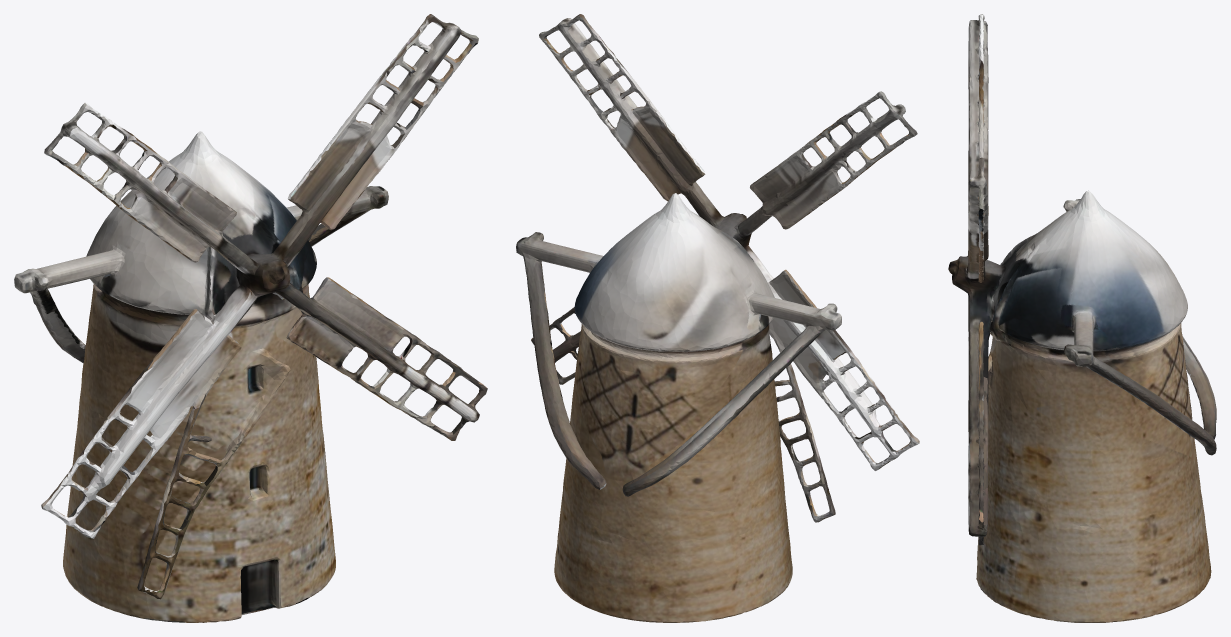
Rendered from mdl_windmill_001.glb.
The picture shows the model from 3 angles, left to right: view 1: azimuth 30°, elevation 25°; view 2: azimuth 150°, elevation 25°; view 3: azimuth 270°, elevation 25°; orthographic projection. The views are drawn at different scales.
Visible parts, largest first — view 1: tmpqhw4icpz.ply; view 2: tmpqhw4icpz.ply; view 3: tmpqhw4icpz.ply.
Boxes of the visible parts, x1=… form: tmpqhw4icpz.ply: x1=14, y1=14, x2=487, y2=622; tmpqhw4icpz.ply: x1=516, y1=14, x2=919, y2=622; tmpqhw4icpz.ply: x1=948, y1=14, x2=1216, y2=622.
Size of the model in its own units: 0.8285 by 0.9892 by 0.4922.
1 material, 1 textured.
